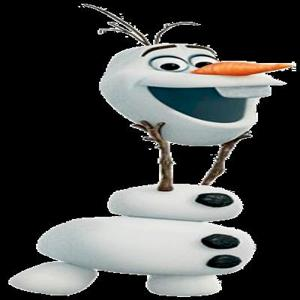olaf: (56, 5, 282, 294)
